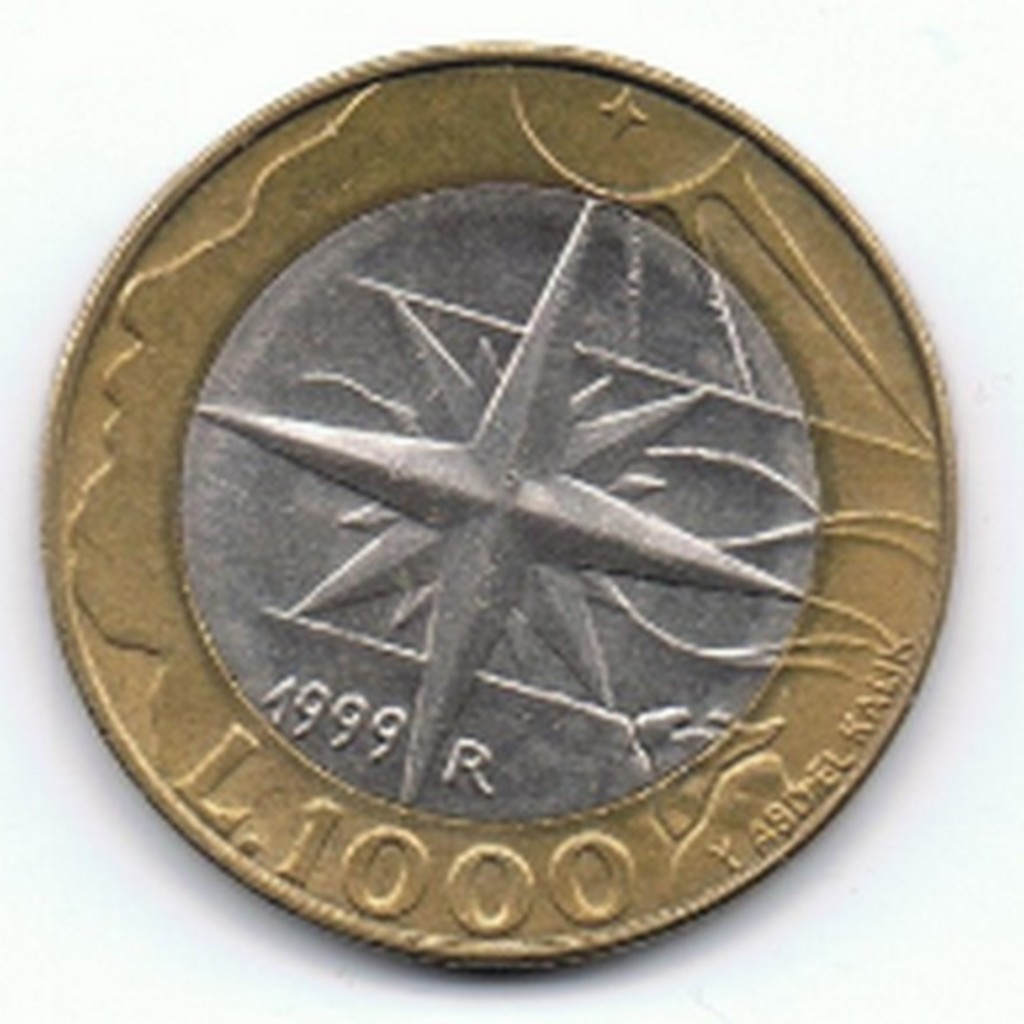Coin: (38, 38, 961, 971)
